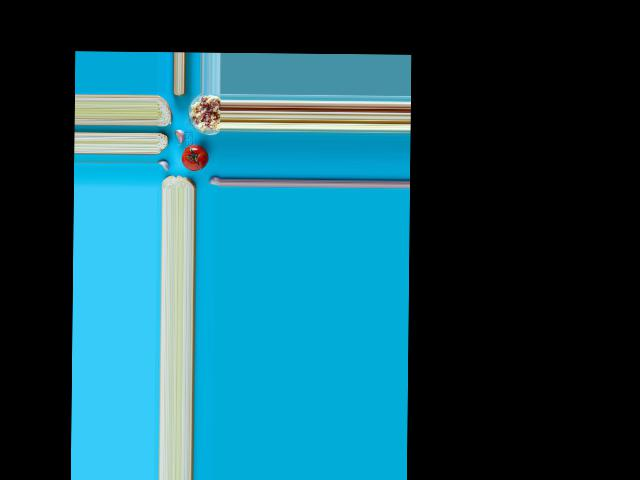tomato: (181, 145, 208, 171)
